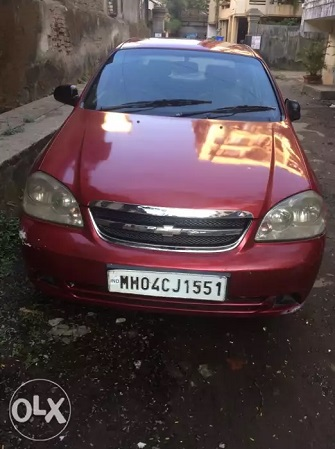licenseplate: (104, 265, 229, 305)
